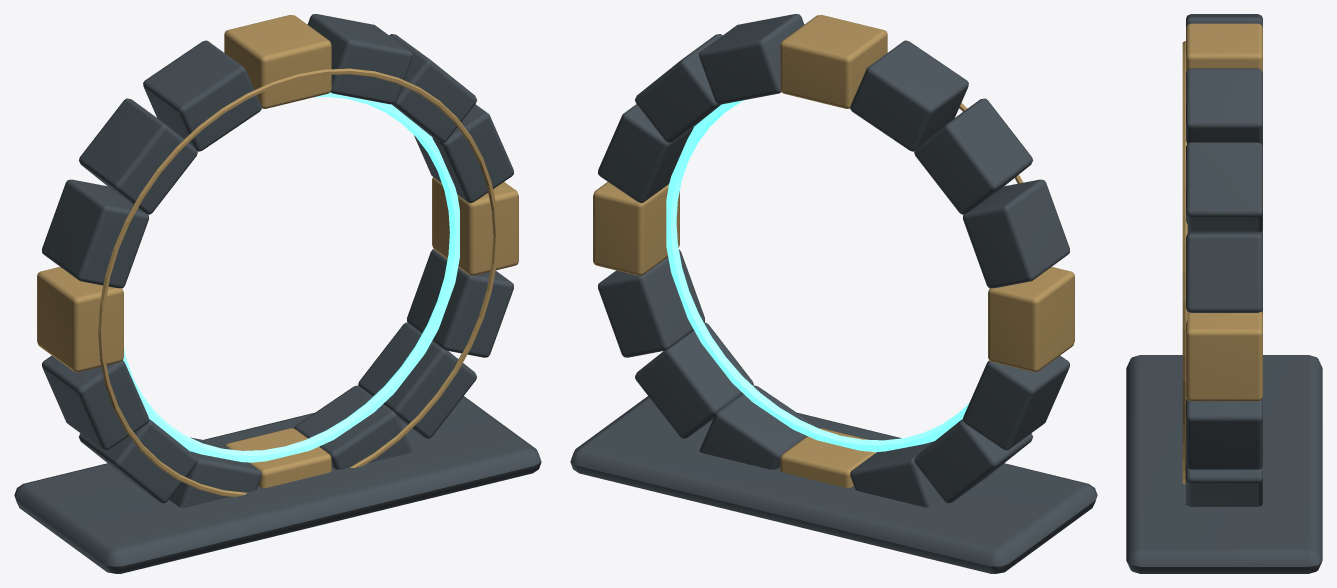
File: portal.glb
3 views of the same model, side by side, from view 1: azimuth 30°, elevation 25°; view 2: azimuth 150°, elevation 25°; view 3: azimuth 270°, elevation 25° (orthographic). The views are drawn at different scales.
Visible parts, largest first — view 1: Portal foundation, Arch segment.013, Arch segment.015, Inner portal light, Arch segment.014, Outer brass inlay, Arch segment.012, Arch segment, Arch segment.006, Arch segment.005, Arch segment.011, Arch segment.001 (+7 smaller); view 2: Portal foundation, Arch segment.013, Arch segment.015, Arch segment.014, Arch segment.012, Arch segment, Inner portal light, Arch segment.006, Arch segment.005, Arch segment.011, Arch segment.004, Arch segment.001 (+6 smaller); view 3: Portal foundation, Arch segment.002, Arch segment.004, Arch segment.003, Arch segment.001, Arch segment.005, Arch segment, Arch segment.006, Outer brass inlay, Arch segment.015.
Boxes of the visible parts, x1,y1,x2,y2 form: Portal foundation: [14, 396, 541, 573]; Arch segment.013: [42, 179, 148, 288]; Arch segment.015: [143, 40, 261, 151]; Inner portal light: [122, 92, 459, 462]; Arch segment.014: [79, 98, 197, 214]; Outer brass inlay: [98, 68, 498, 496]; Arch segment.012: [37, 267, 123, 372]; Arch segment: [224, 15, 331, 108]; Arch segment.006: [358, 322, 476, 438]; Arch segment.005: [407, 249, 513, 357]; Arch segment.011: [42, 355, 148, 450]; Arch segment.001: [307, 14, 412, 104]; Portal foundation: [570, 396, 1097, 573]; Arch segment.013: [963, 179, 1069, 288]; Arch segment.015: [850, 40, 968, 151]; Arch segment.014: [914, 98, 1032, 214]; Arch segment.012: [988, 267, 1074, 372]; Arch segment: [780, 15, 887, 108]; Inner portal light: [666, 100, 969, 452]; Arch segment.006: [635, 322, 753, 438]; Arch segment.005: [598, 249, 704, 357]; Arch segment.011: [963, 355, 1069, 450]; Arch segment.004: [593, 182, 679, 275]; Arch segment.001: [699, 14, 804, 104]; Portal foundation: [1126, 355, 1322, 573]; Arch segment.002: [1186, 142, 1262, 232]; Arch segment.004: [1186, 311, 1262, 401]; Arch segment.003: [1186, 231, 1262, 312]; Arch segment.001: [1186, 68, 1262, 146]; Arch segment.005: [1186, 397, 1262, 469]; Arch segment: [1186, 23, 1262, 72]; Arch segment.006: [1186, 465, 1262, 506]; Outer brass inlay: [1182, 41, 1187, 484]; Arch segment.015: [1186, 14, 1262, 27].
Size of the model in its own units: 4.29 by 4.29 by 1.7.
